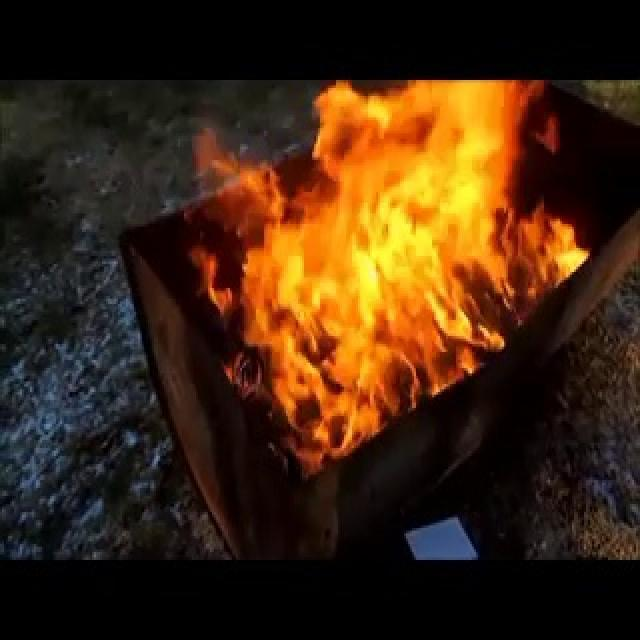fire: (174, 85, 596, 488)
